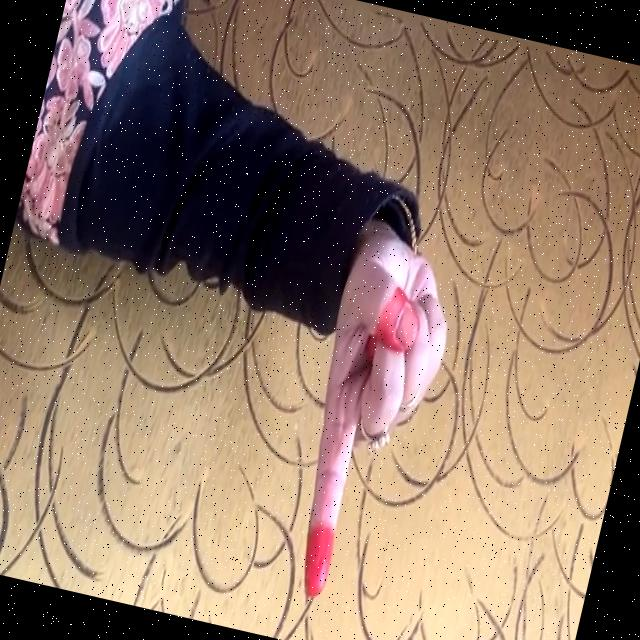Suchi: (238, 204, 480, 630)
